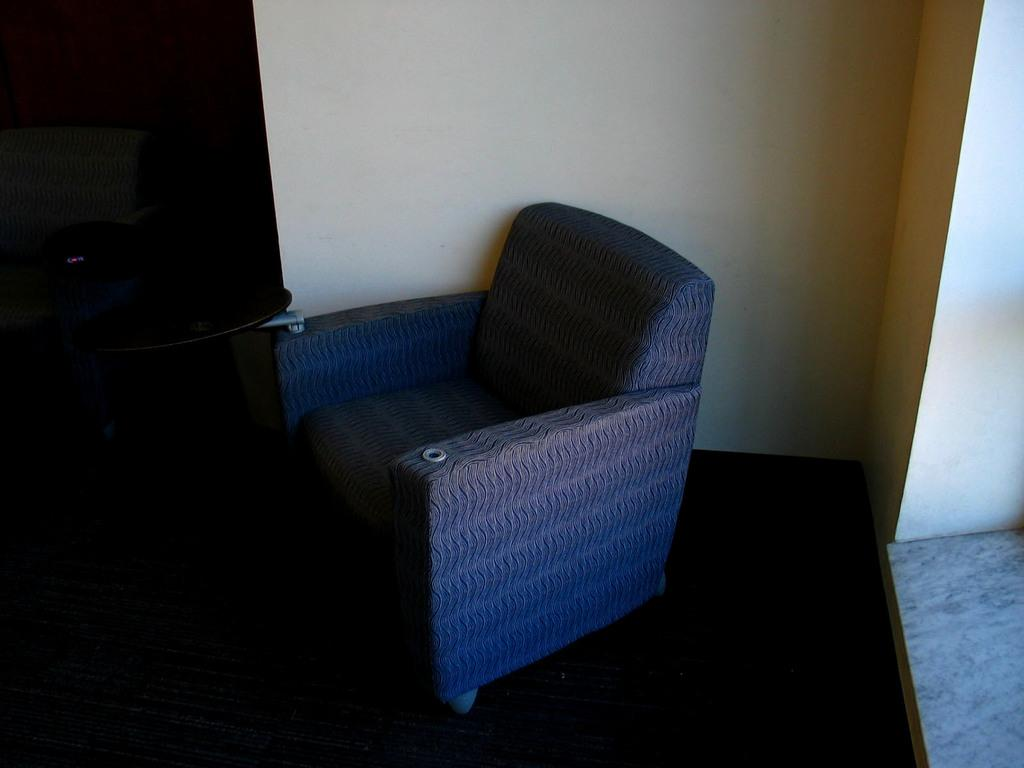Chair: (257, 232, 618, 682)
